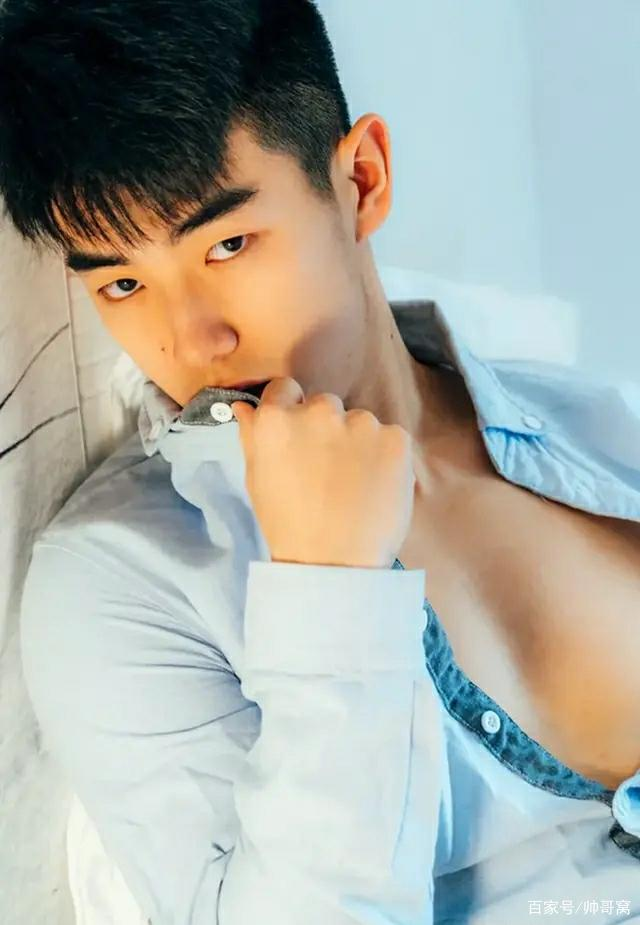person: (28, 34, 566, 922)
